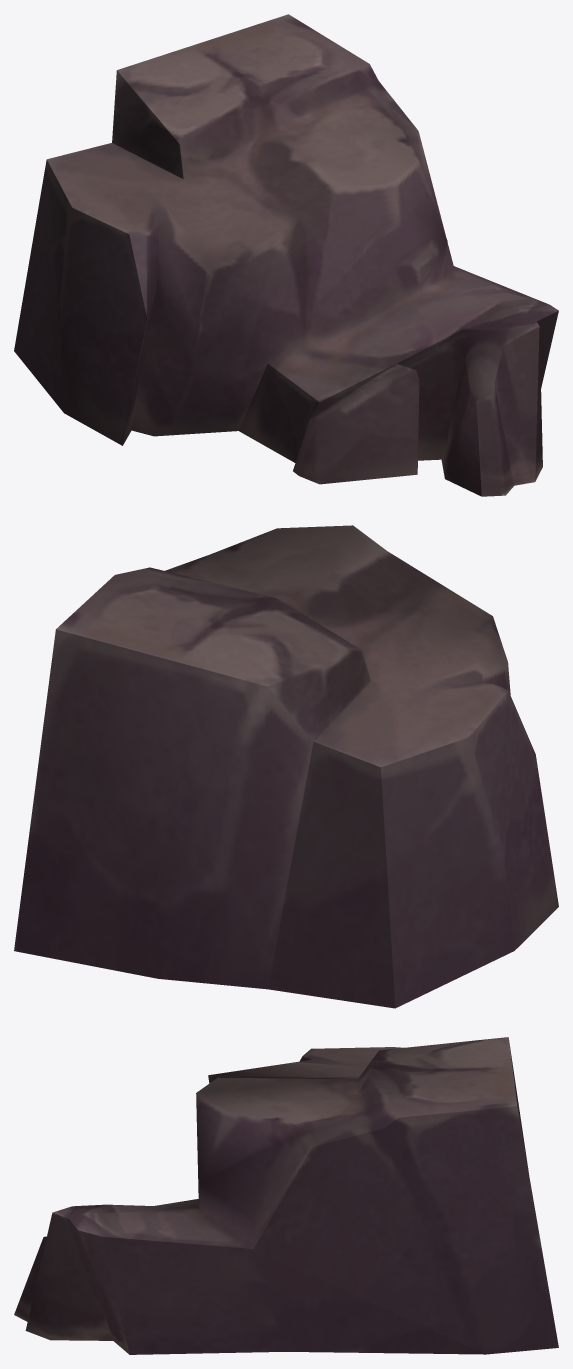
The model's file is Boss_05.FBX.
The picture shows the model from 3 angles, top to bottom: view 1: azimuth 30°, elevation 25°; view 2: azimuth 150°, elevation 25°; view 3: azimuth 270°, elevation 25°; orthographic projection. The views are drawn at different scales.
Visible parts, largest first — view 1: Boss_05; view 2: Boss_05; view 3: Boss_05.
Part boxes in pixels (left/top/right/bottom): Boss_05: left=14, top=14, right=558, bottom=496; Boss_05: left=14, top=525, right=558, bottom=1008; Boss_05: left=14, top=1037, right=558, bottom=1354.
Size of the model in its own units: 3.29 by 2.42 by 5.06.
